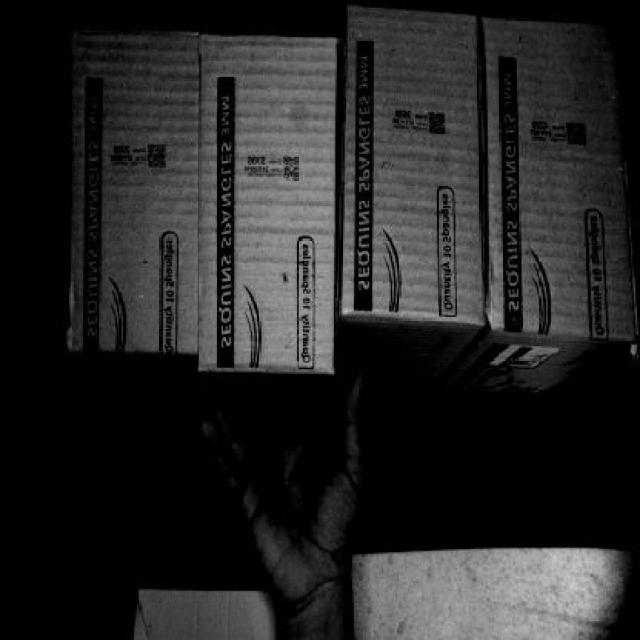cardboxes: (488, 20, 630, 335), (202, 36, 331, 376), (68, 31, 200, 351), (342, 22, 478, 329)
